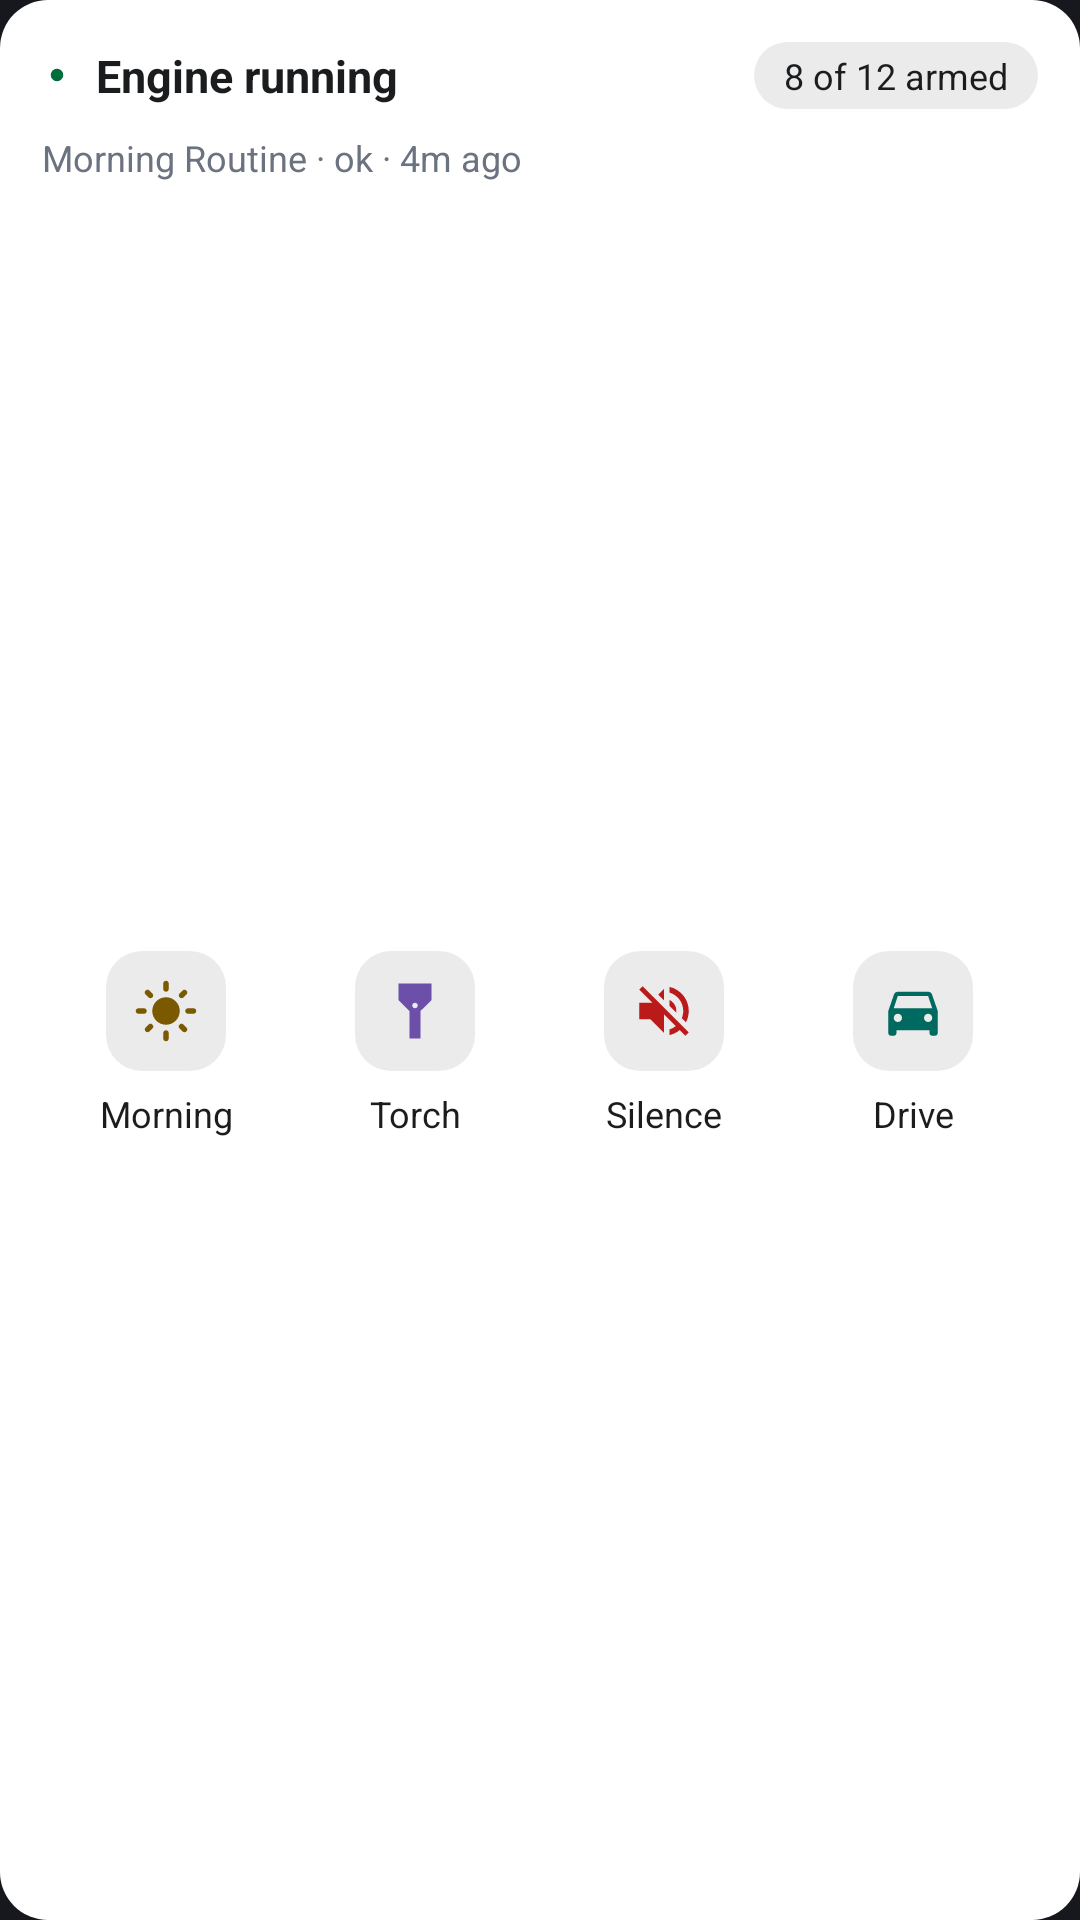

Named icons in this screenshot (1080w x 1920h) and their centers, (x,y):
macro car: (913,1013)
macro flashlight: (415,1011)
macro sun: (166,1011)
macro volume off: (664,1011)
